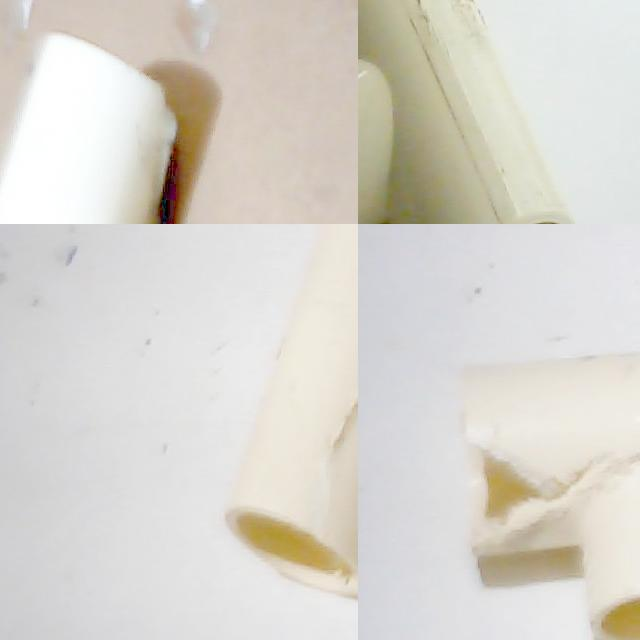Defective: (461, 416, 577, 560), (329, 361, 358, 567)
T Joint: (222, 224, 358, 602), (358, 0, 577, 224), (464, 362, 640, 640), (0, 33, 179, 224)
